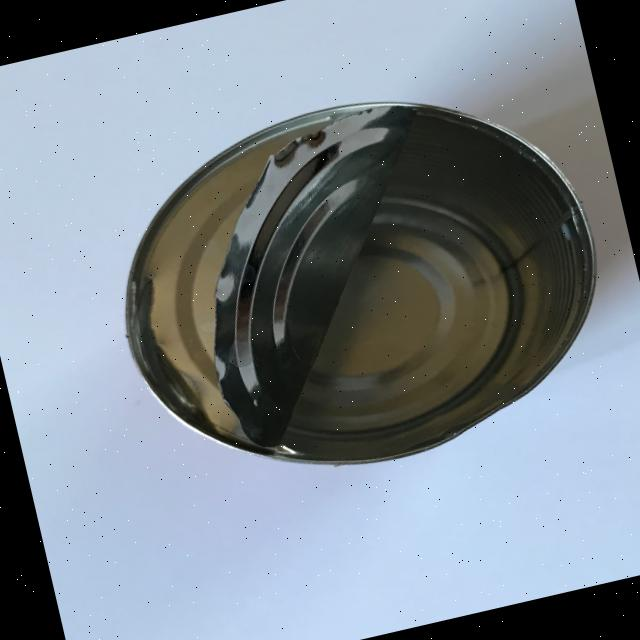metal: (85, 55, 632, 512)
